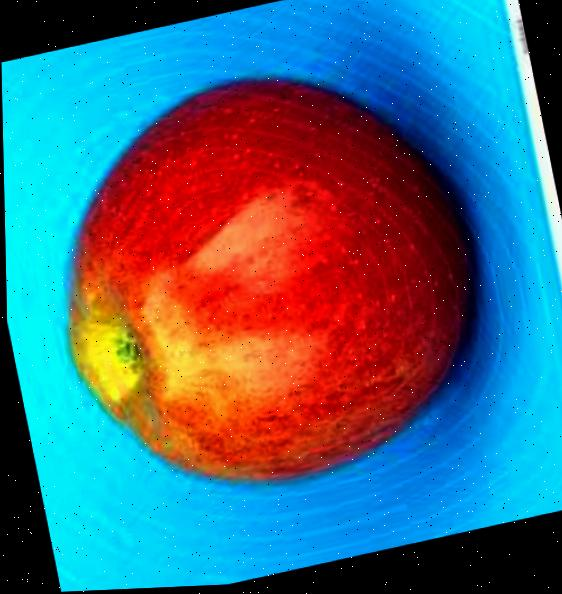HEALTHY: (10, 0, 521, 546)
